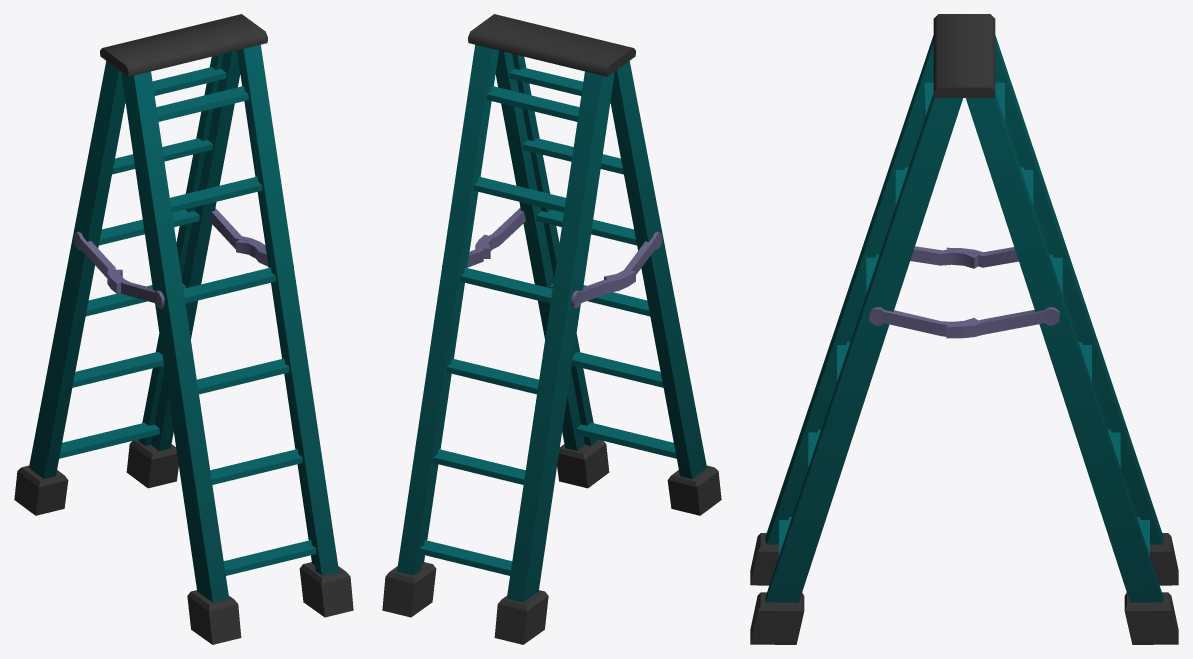
File: Ladder_1_6.fbx
The picture shows the model from 3 angles, left to right: view 1: azimuth 30°, elevation 25°; view 2: azimuth 150°, elevation 25°; view 3: azimuth 270°, elevation 25°; orthographic projection. The views are drawn at different scales.
Visible parts, largest first — view 1: Ladder_1_6; view 2: Ladder_1_6; view 3: Ladder_1_6.
Boxes of the visible parts, x1=… form: Ladder_1_6: x1=14, y1=14, x2=353, y2=644; Ladder_1_6: x1=382, y1=14, x2=721, y2=644; Ladder_1_6: x1=750, y1=14, x2=1178, y2=644.
Bounding box in the file's own units: 55.92 × 182 × 127.
